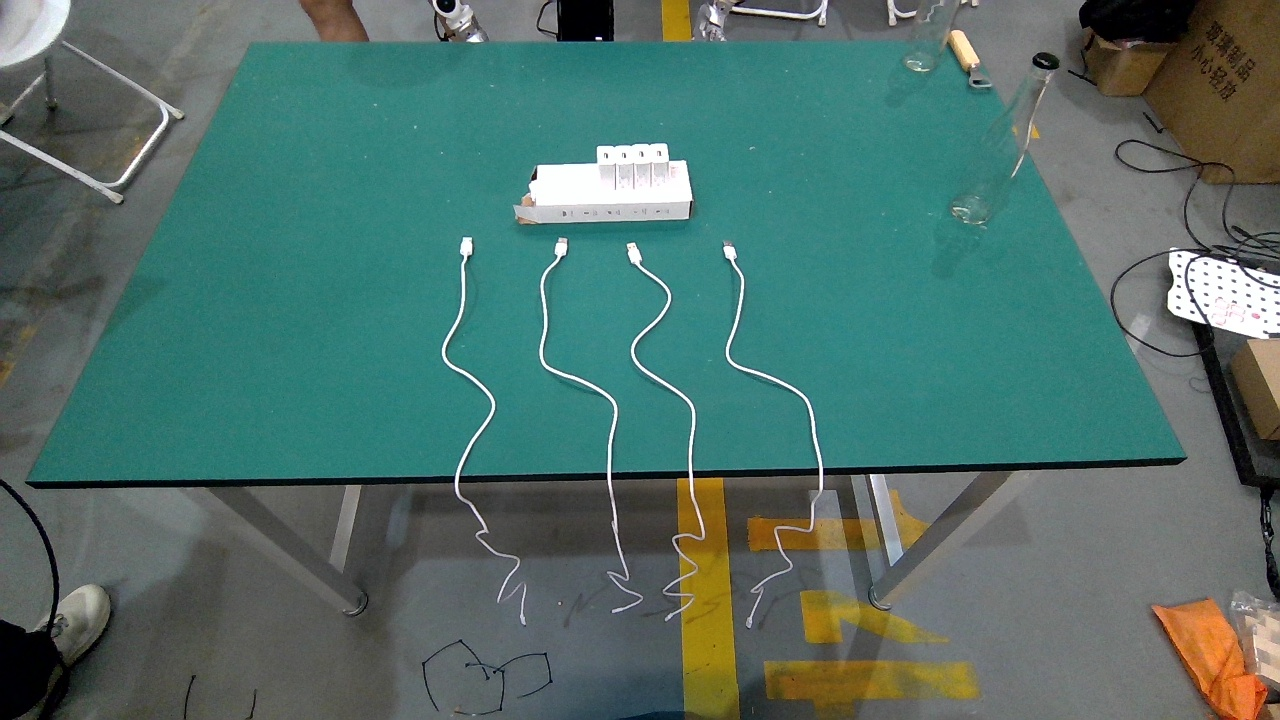usb_a_port: (638, 150, 645, 159), (603, 152, 609, 160), (622, 152, 627, 159), (657, 150, 662, 157)
